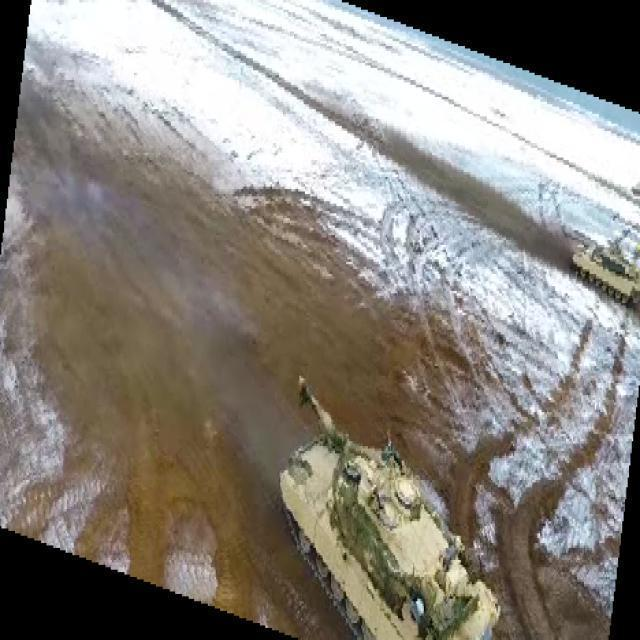Tanks: (276, 366, 502, 640), (562, 227, 640, 304)
